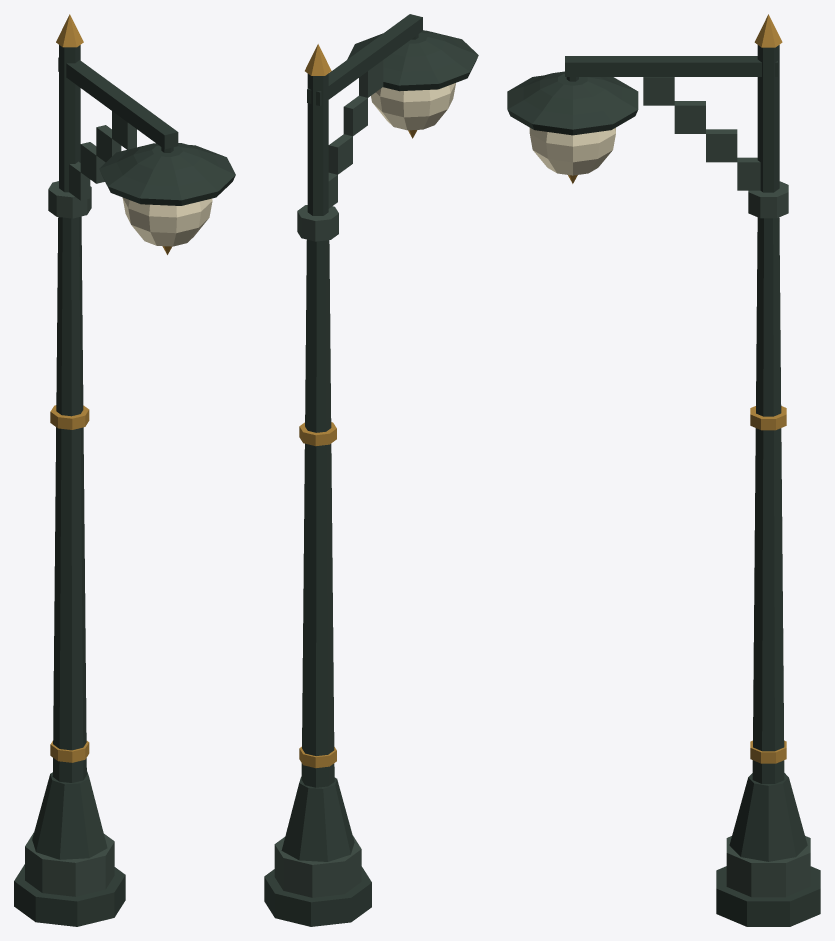
Rendered from streetlamp.glb.
3 views of the same model, side by side, from view 1: azimuth 30°, elevation 25°; view 2: azimuth 150°, elevation 25°; view 3: azimuth 270°, elevation 25° (orthographic). The views are drawn at different scales.
Visible parts, largest first — view 1: streetlamp; view 2: streetlamp; view 3: streetlamp.
Part boxes in pixels (x1,y1,x2,y2): streetlamp: (14, 14, 235, 926); streetlamp: (264, 14, 478, 926); streetlamp: (507, 14, 820, 926).
Bounding box in the file's own units: 0.88 × 6.28 × 2.
